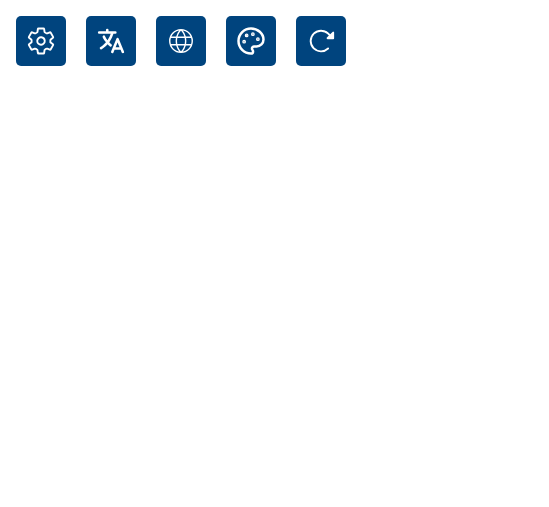
Scenario: Style Customization Dropdown › opens the style dropdown when clicked
The image size is (549, 507).
What coordinates should you click on to do the following:
click the button with test id "style-dropdown-button"
I would click on:
 (251, 41)
Its box is top-left (226, 16), bottom-right (276, 66).
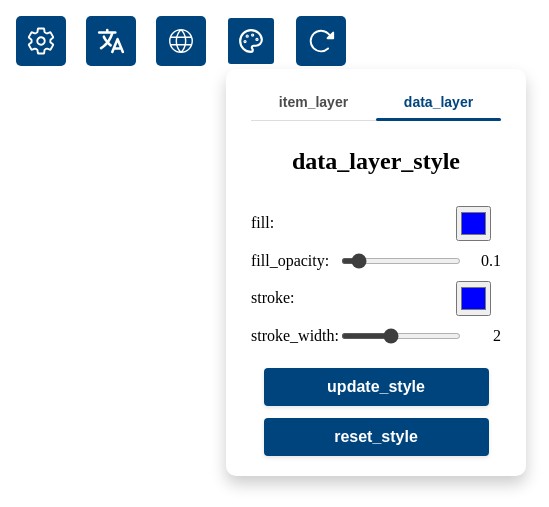
Check: the button "update_style" is shown, box top-left (264, 368), bottom-right (488, 406)
Check: the button "item_layer" is shown, box top-left (251, 84), bottom-right (376, 120)
Check: the button "data_layer" is shown, box top-left (376, 84), bottom-right (501, 120)
